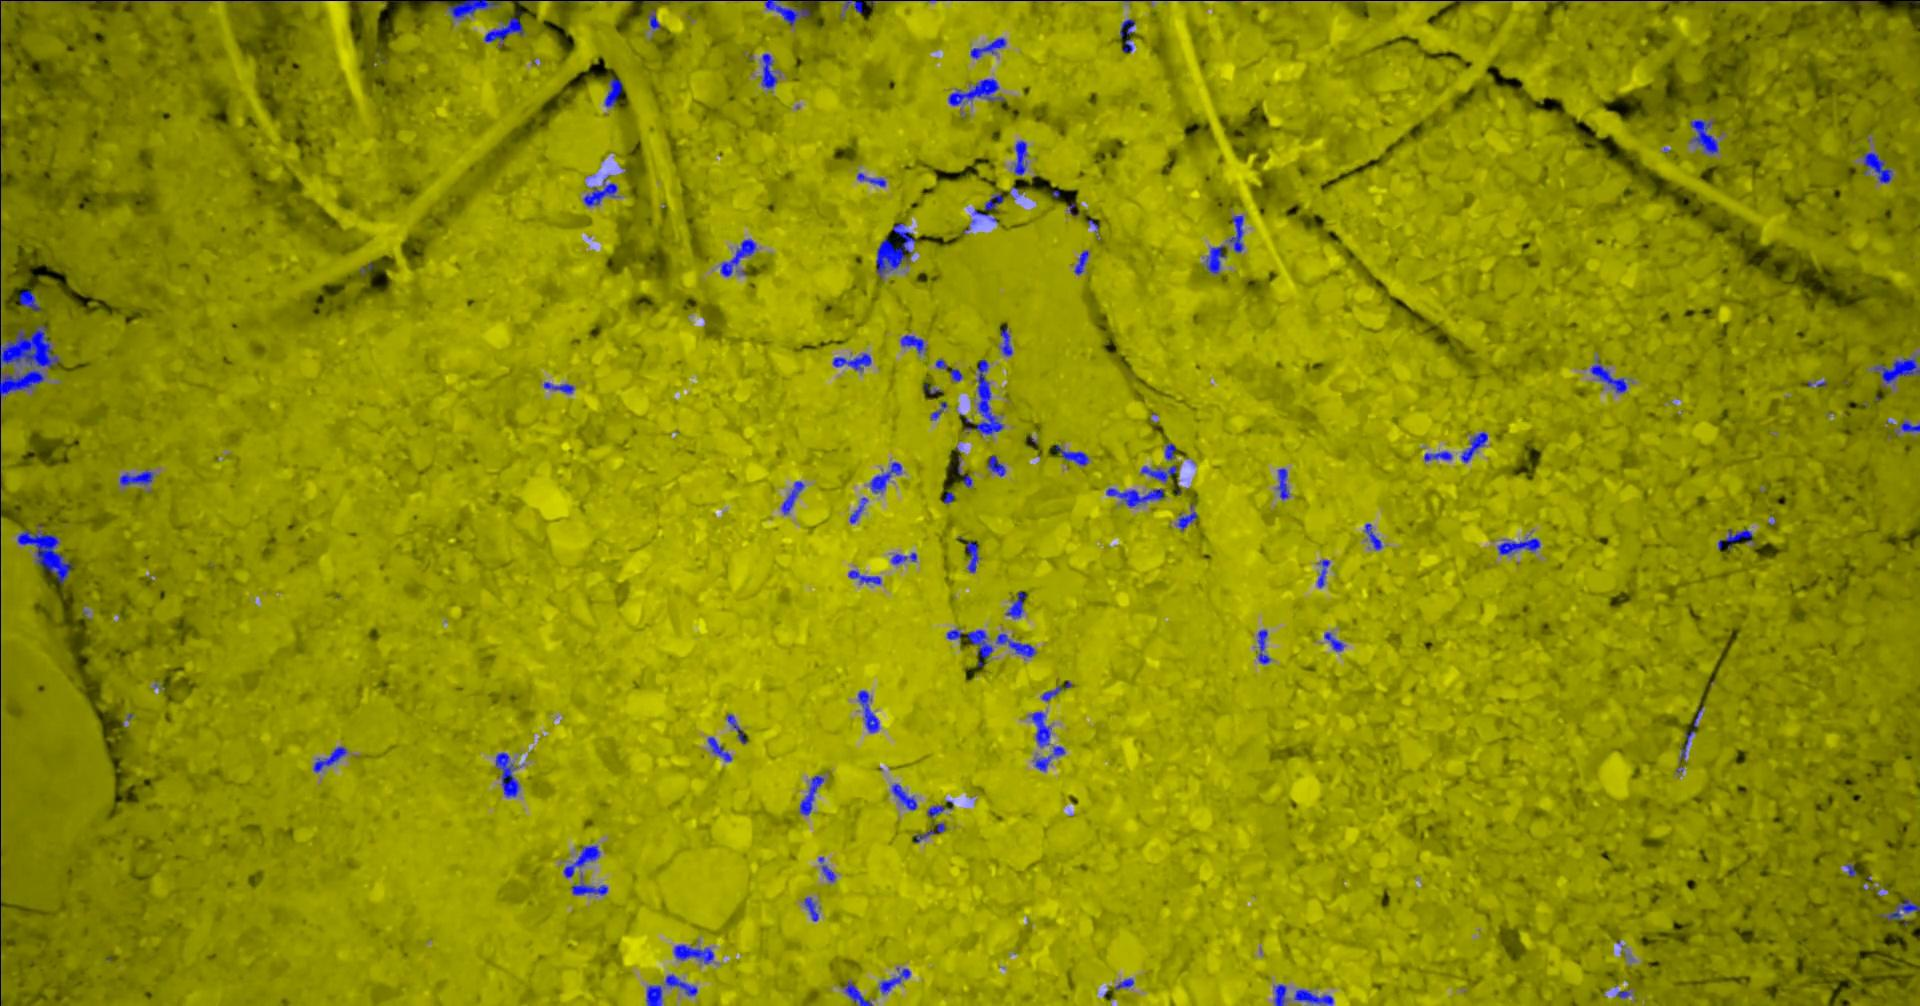ant: (963, 359, 1003, 434), (875, 222, 916, 278), (947, 77, 1003, 105), (483, 11, 524, 47), (1873, 354, 1919, 384), (720, 239, 756, 276), (1590, 359, 1627, 392), (563, 845, 599, 876), (1105, 488, 1164, 507), (764, 0, 809, 25), (495, 752, 519, 796), (869, 461, 902, 493), (799, 775, 823, 815), (447, 0, 502, 18), (1689, 119, 1718, 152), (583, 178, 617, 206), (1862, 152, 1892, 183), (996, 633, 1036, 655), (1879, 898, 1919, 921), (968, 629, 992, 666), (879, 967, 910, 995), (312, 746, 345, 772), (1497, 533, 1539, 554), (857, 690, 877, 732), (1460, 431, 1487, 462), (1034, 746, 1064, 771), (970, 37, 1006, 58), (673, 944, 712, 963), (663, 973, 697, 995), (1717, 528, 1752, 549), (781, 481, 803, 514), (843, 981, 872, 1005), (1054, 445, 1088, 465), (1030, 711, 1050, 746), (971, 193, 1003, 215), (891, 782, 916, 809), (935, 358, 963, 381), (832, 353, 870, 370), (914, 822, 945, 842), (1293, 989, 1333, 1005), (707, 735, 731, 761), (1004, 591, 1026, 619), (1041, 680, 1070, 700), (1140, 465, 1176, 481), (1205, 245, 1225, 273), (1228, 215, 1243, 251), (726, 714, 745, 743), (761, 53, 776, 89), (1177, 504, 1197, 530), (119, 470, 152, 485), (847, 569, 880, 584), (604, 77, 622, 105), (571, 882, 607, 895), (1013, 140, 1027, 174), (850, 497, 867, 523), (1679, 730, 1694, 761), (1364, 523, 1382, 549), (818, 856, 836, 882), (1257, 629, 1270, 663), (900, 335, 924, 353), (927, 800, 952, 817), (19, 290, 39, 310), (1323, 631, 1343, 652), (856, 171, 885, 185), (987, 453, 1004, 476), (844, 0, 874, 13), (1073, 250, 1088, 274), (1276, 467, 1288, 499), (966, 540, 978, 572), (999, 326, 1012, 354), (1317, 559, 1330, 587), (543, 381, 574, 392), (803, 897, 818, 920), (645, 984, 662, 1005), (930, 401, 946, 420), (1272, 983, 1286, 1005), (890, 553, 916, 564), (1119, 18, 1134, 36), (648, 9, 662, 28), (1423, 451, 1451, 460), (1114, 978, 1133, 989), (946, 627, 961, 641), (1900, 420, 1919, 431), (1164, 443, 1175, 460)
